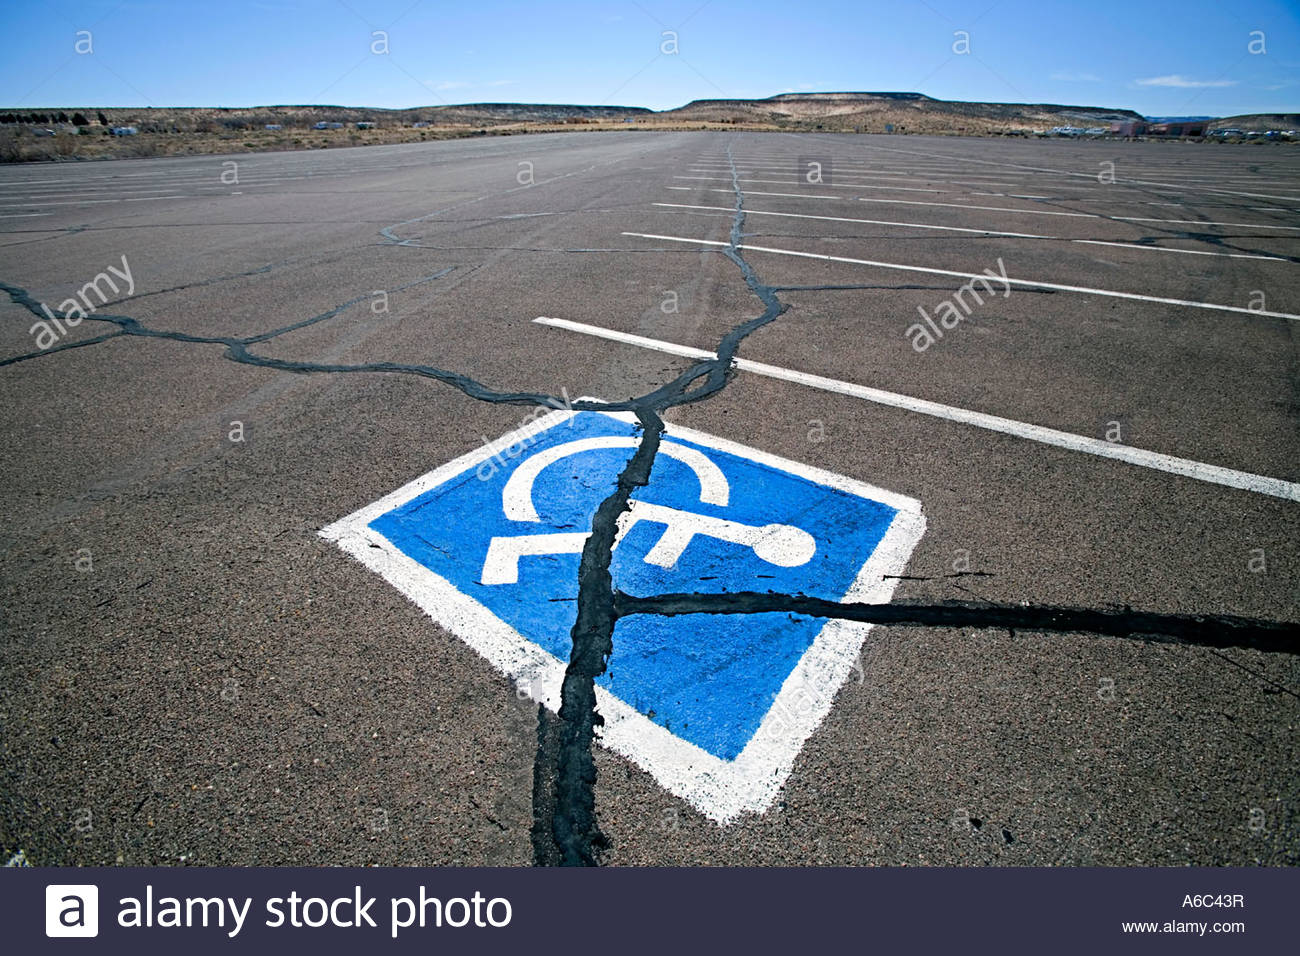empyt_space: (18, 296, 1300, 865), (526, 222, 1300, 528), (620, 194, 1300, 334)
